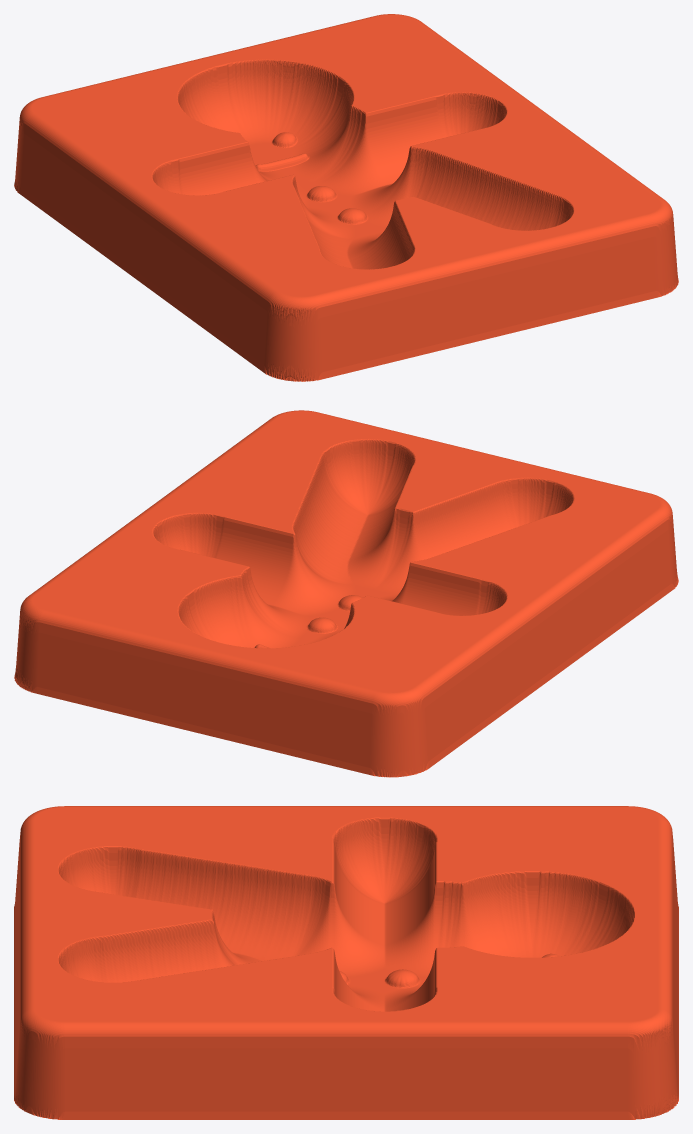
File: mold.glb
The picture shows the model from 3 angles, top to bottom: view 1: azimuth 30°, elevation 25°; view 2: azimuth 150°, elevation 25°; view 3: azimuth 270°, elevation 25°; orthographic projection. The views are drawn at different scales.
Visible parts, largest first — view 1: geometry_0; view 2: geometry_0; view 3: geometry_0.
Boxes of the visible parts, left/top/right/bottom form: geometry_0: left=14, top=14, right=678, bottom=381; geometry_0: left=14, top=410, right=678, bottom=777; geometry_0: left=14, top=806, right=678, bottom=1119.
Size of the model in its own units: 0.097 by 0.0175 by 0.1178.
